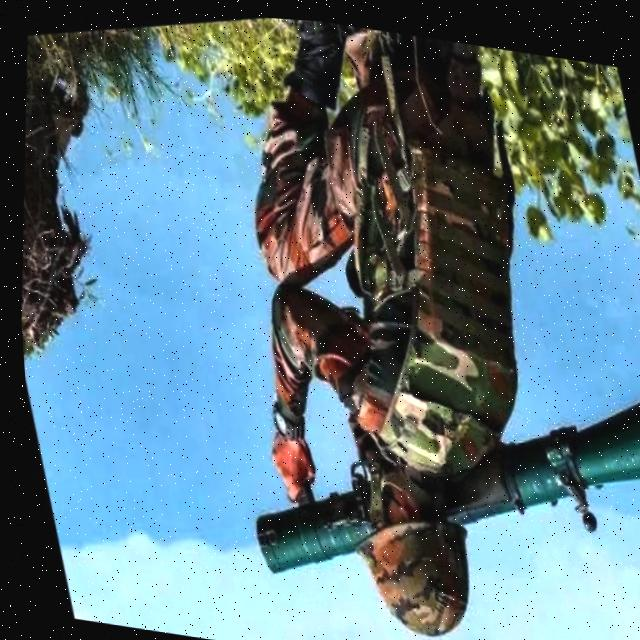rocket: (209, 315, 640, 640)
